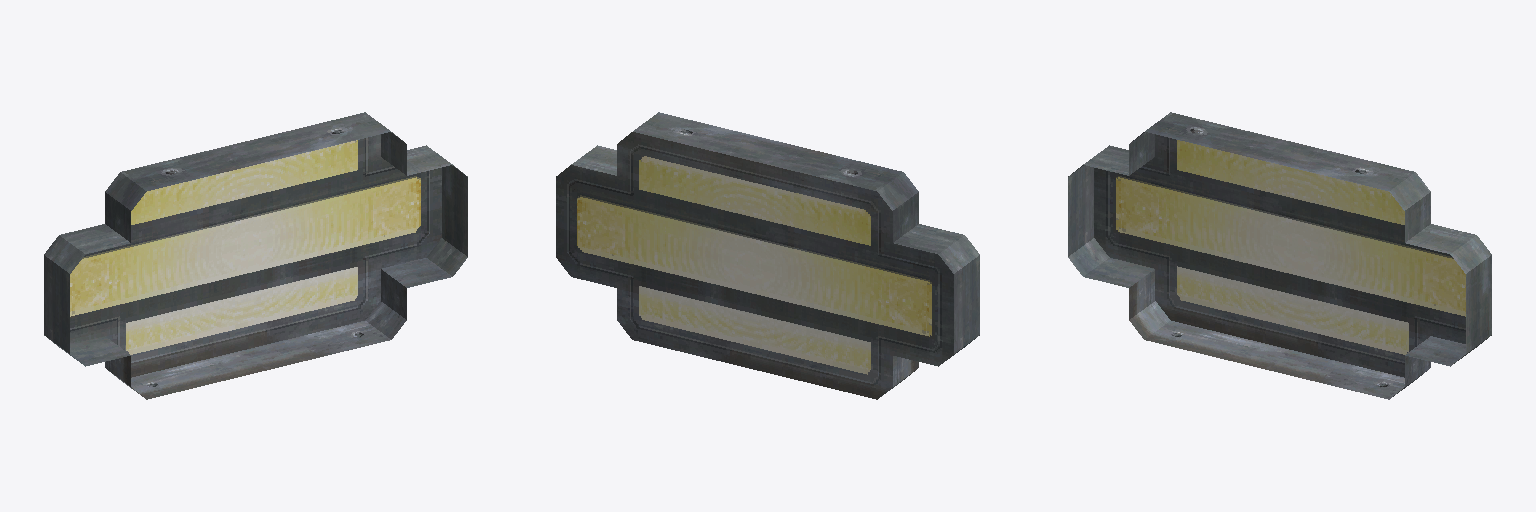
3 renders of one model, left to right at view 1: azimuth 30°, elevation 25°; view 2: azimuth 150°, elevation 25°; view 3: azimuth 330°, elevation 25°, orthographic.
Visible parts, largest first — view 1: light_floor; view 2: light_floor; view 3: light_floor.
Part boxes in pixels (bbox=[...]): light_floor: bbox=[44, 112, 467, 399]; light_floor: bbox=[556, 112, 979, 399]; light_floor: bbox=[1068, 112, 1491, 399].
Size of the model in its own units: 26 by 13 by 3.
1 materials, 1 textured.